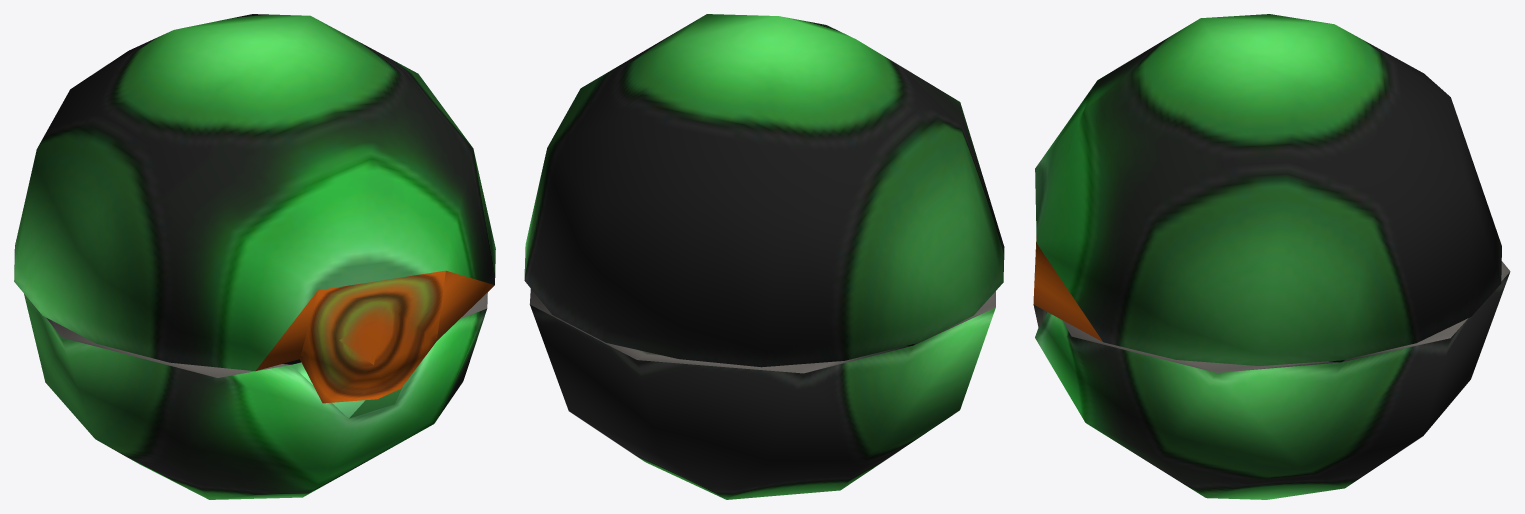
Rendered from item.glb.
3 renders of one model, left to right at view 1: azimuth 30°, elevation 25°; view 2: azimuth 150°, elevation 25°; view 3: azimuth 270°, elevation 25°, orthographic.
Visible parts, largest first — view 1: item; view 2: item; view 3: item.
Part boxes in pixels (x1,y1,x2,y2): item: (14,14,495,499); item: (524,14,1004,499); item: (1033,14,1510,499).
Bounding box in the file's own units: 6.06 × 6.03 × 5.93.
1 material, 1 textured.
